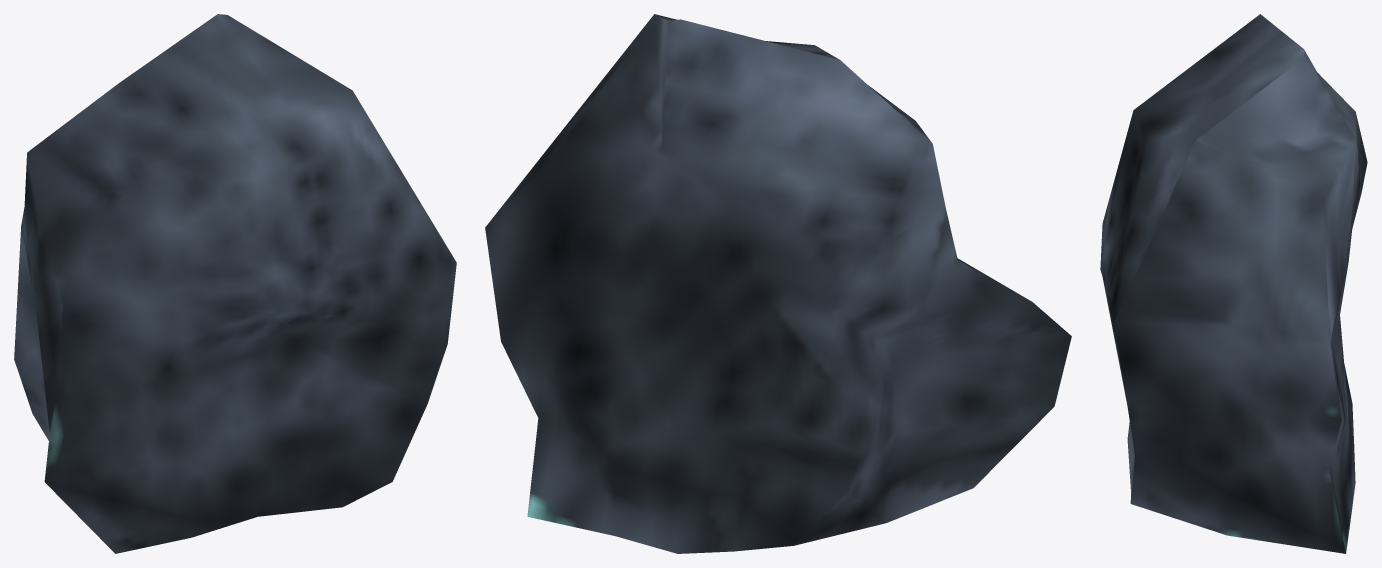
File: TurmalinaPedra.fbx
3 renders of one model, left to right at view 1: azimuth 30°, elevation 25°; view 2: azimuth 150°, elevation 25°; view 3: azimuth 270°, elevation 25°, orthographic. The views are drawn at different scales.
Visible parts, largest first — view 1: MinerioTurmalinaPelado; view 2: MinerioTurmalinaPelado; view 3: MinerioTurmalinaPelado.
Part boxes in pixels (box(x1,y1,x2,y2)): MinerioTurmalinaPelado: box(14, 14, 456, 553); MinerioTurmalinaPelado: box(485, 14, 1071, 553); MinerioTurmalinaPelado: box(1100, 14, 1367, 553).
Size of the model in its own units: 578 by 601 by 324.
